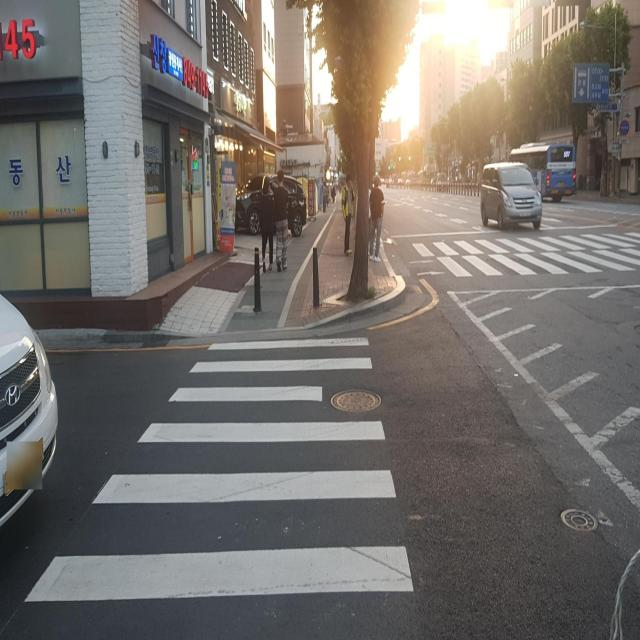횡단보도: (19, 328, 417, 606), (409, 229, 640, 279)
